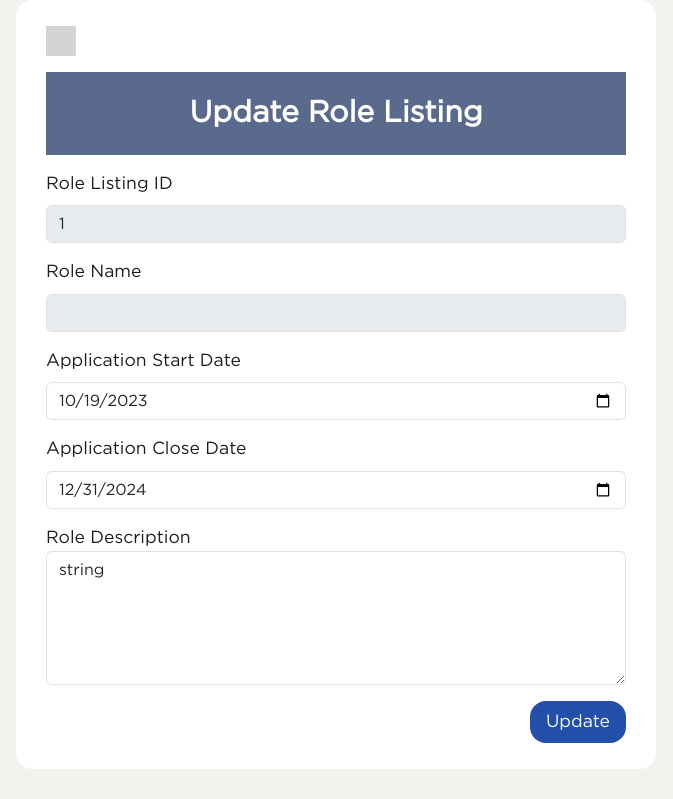
Test: UpdateRoleListing.vue › Verify the successful modification of open role details with all required fields updated correctly.
The width and height of the screenshot is (673, 799).
// Trigger the update function
Click the button with id "update": (578, 722) 530,701 -> 626,743
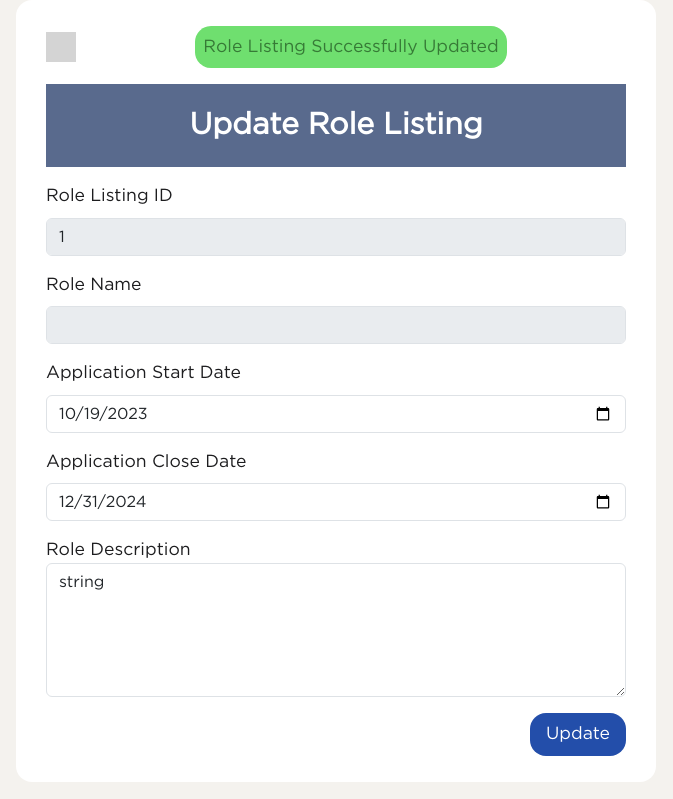
Now the text "Role Listing Successfully Updated" is shown, box 195,26 -> 507,68
